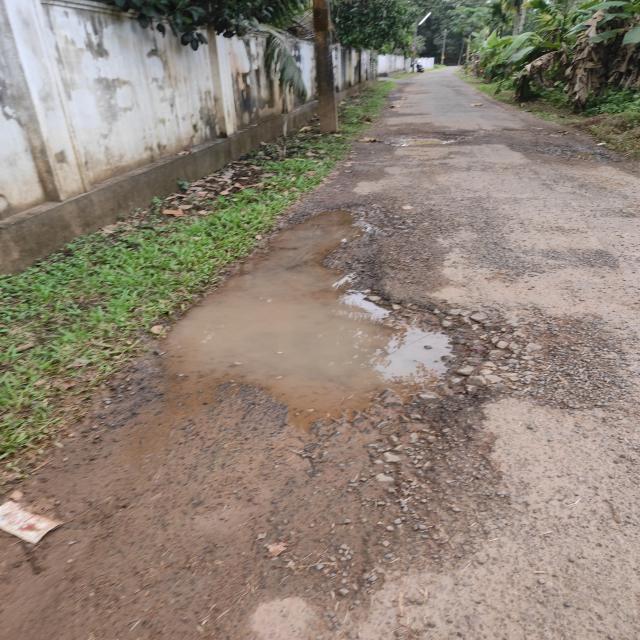potholes: (130, 199, 495, 449), (510, 118, 612, 167), (376, 129, 482, 159)
